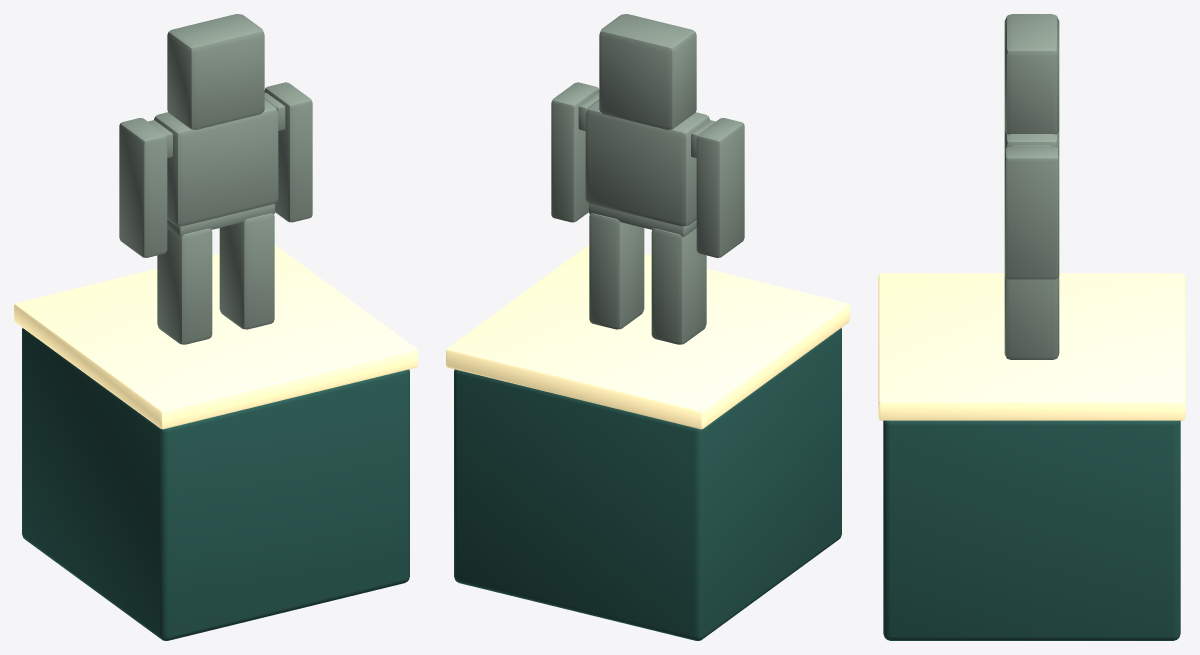
File: anatomy-atlas-kiosk.glb
The picture shows the model from 3 angles, left to right: view 1: azimuth 30°, elevation 25°; view 2: azimuth 150°, elevation 25°; view 3: azimuth 270°, elevation 25°; orthographic projection. The views are drawn at different scales.
Visible parts, largest first — view 1: anatomy-atlas-kiosk; view 2: anatomy-atlas-kiosk; view 3: anatomy-atlas-kiosk.
Part boxes in pixels (x1,y1,x2,y2): anatomy-atlas-kiosk: [14, 14, 417, 640]; anatomy-atlas-kiosk: [446, 14, 849, 640]; anatomy-atlas-kiosk: [878, 14, 1185, 640].
Size of the model in its own units: 1.24 by 2.45 by 1.24.
